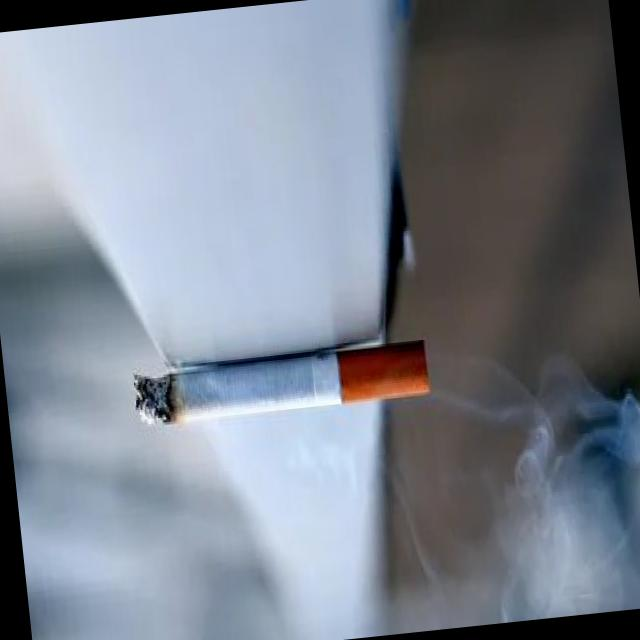smoke: (126, 332, 436, 432)
